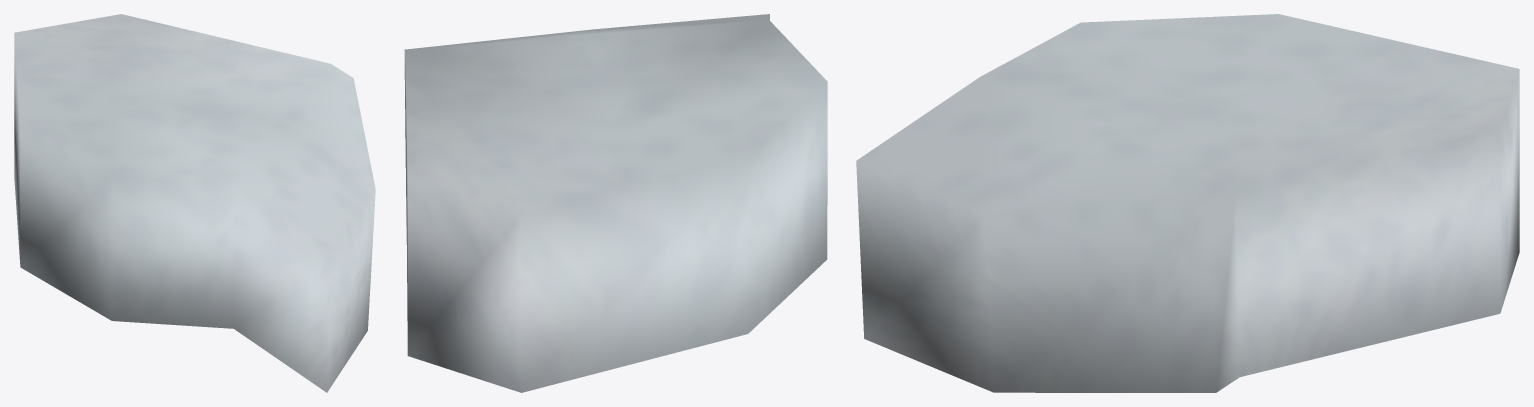
The model's file is Rock_16_Snow.fbx.
3 renders of one model, left to right at view 1: azimuth 30°, elevation 25°; view 2: azimuth 150°, elevation 25°; view 3: azimuth 270°, elevation 25°, orthographic. The views are drawn at different scales.
Visible parts, largest first — view 1: Rock_16_Snow; view 2: Rock_16_Snow; view 3: Rock_16_Snow.
Boxes of the visible parts, x1=… form: Rock_16_Snow: x1=14, y1=14, x2=375, y2=392; Rock_16_Snow: x1=404, y1=14, x2=827, y2=392; Rock_16_Snow: x1=856, y1=14, x2=1519, y2=392.
Size of the model in its own units: 60.1 by 34.89 by 88.82.
